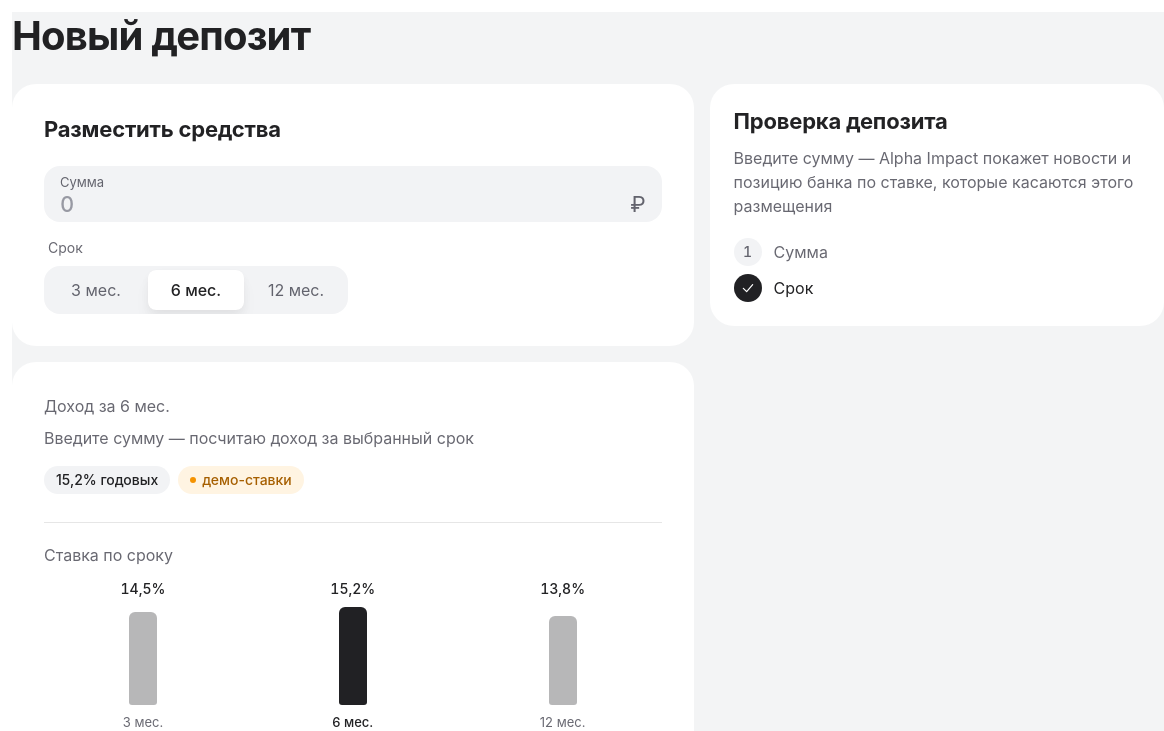
Test case: DepositPage › explains an amount it cannot accept while the panel keeps the last one
In the field named "Сумма, ₽": [353, 194] box 44,166 -> 662,222, type "50000000"
Wait 500 ms
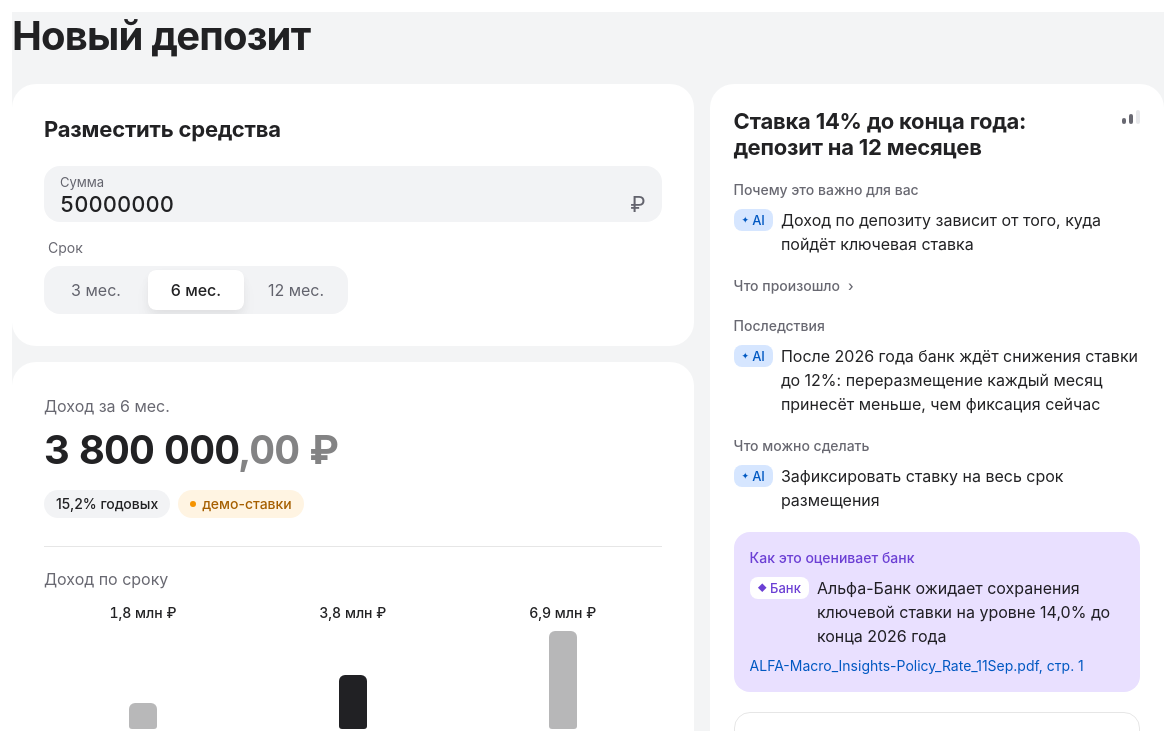
Replace the text in the field named "Сумма, ₽" with "5000000O": [353, 194] box 44,166 -> 662,222
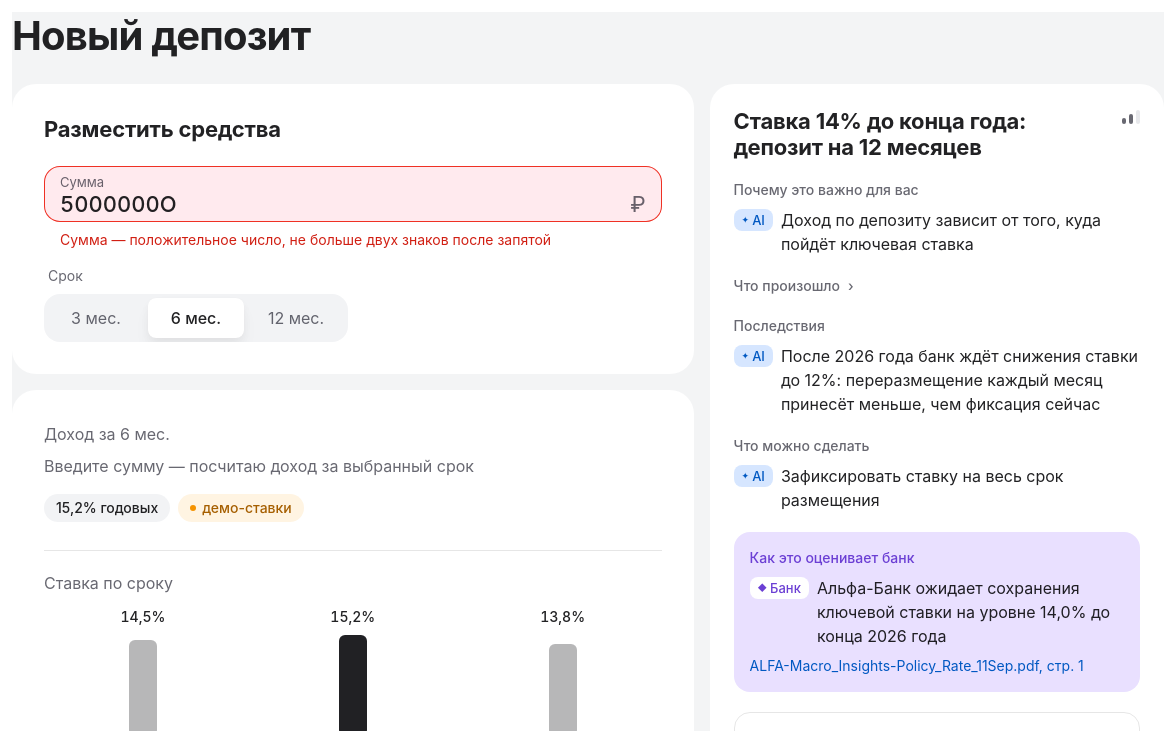
Expected: the text "Сумма — положительное число, не больше двух знаков после запятой" is shown, 60,231 -> 551,248
